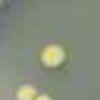yellow: (39, 41, 70, 71), (15, 84, 36, 100), (34, 92, 56, 100)
